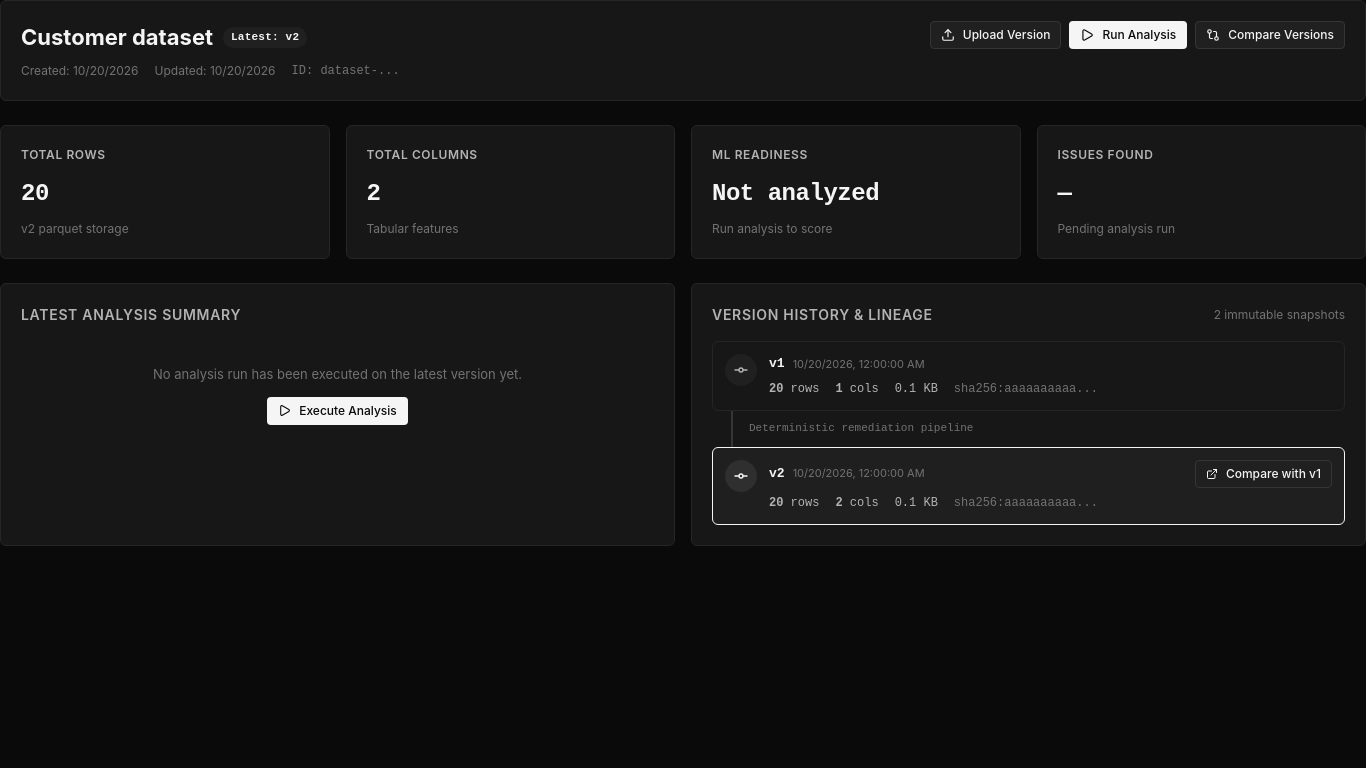
Test: DatasetDetailPage target-aware analysis › lists only latest-version schema columns and shows their dtypes
expect the heading "Customer dataset" is shown: met, box [21,21,213,54]
Click the button "Run Analysis". click: {"x": 1128, "y": 35}
box: [1069,21,1187,49]
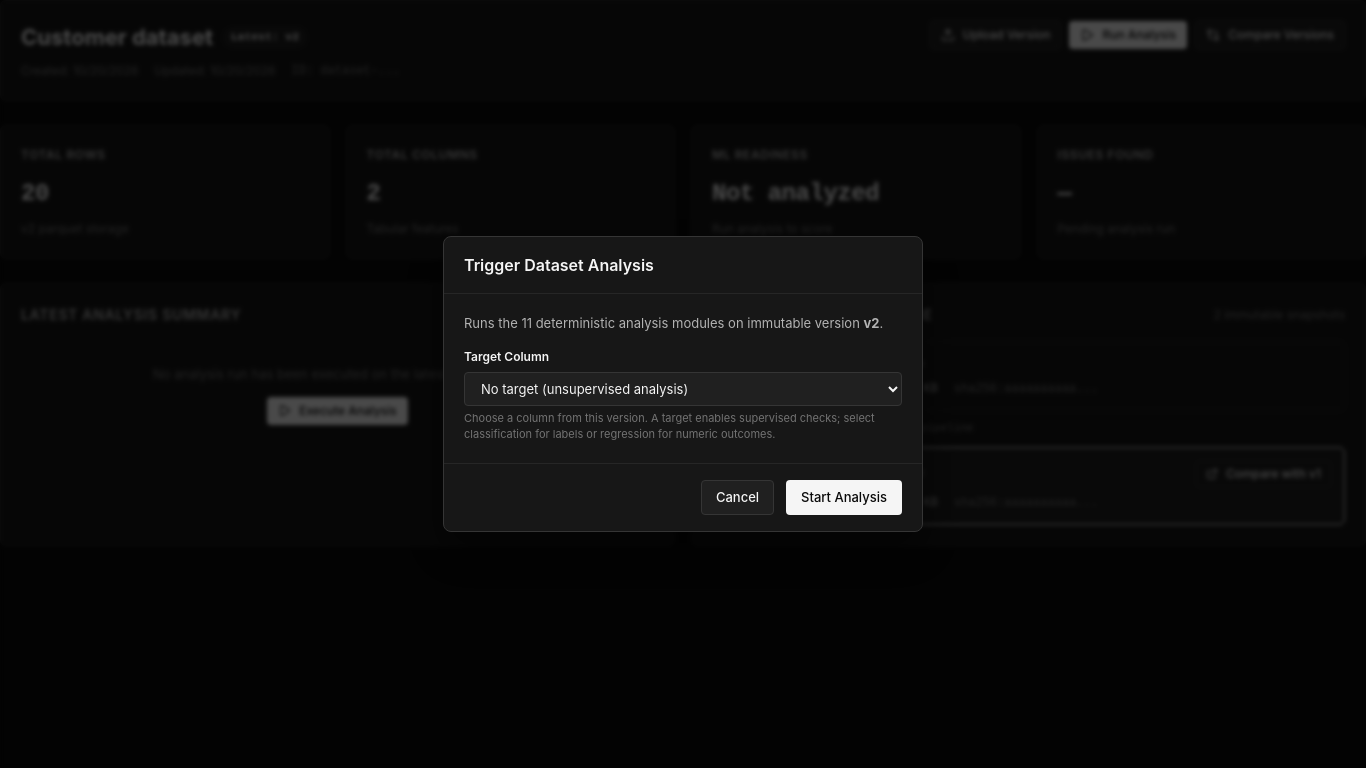
expect the heading "Trigger Dataset Analysis" is shown: met, box [464,253,654,277]
